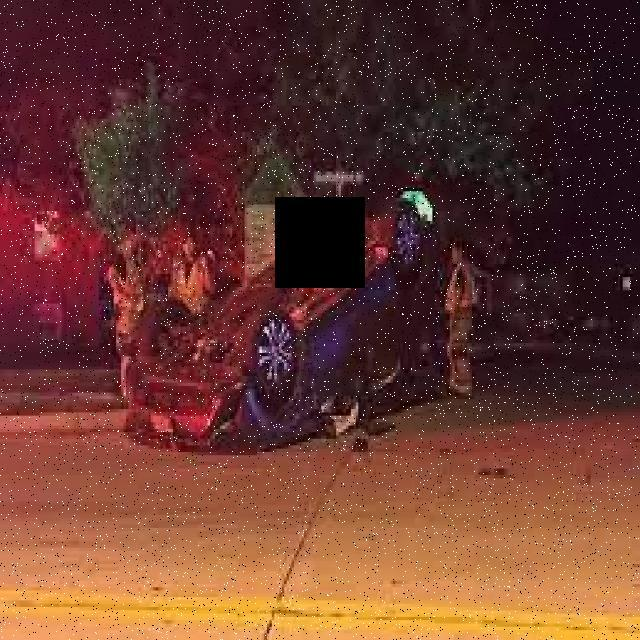severe: (122, 201, 439, 459)
